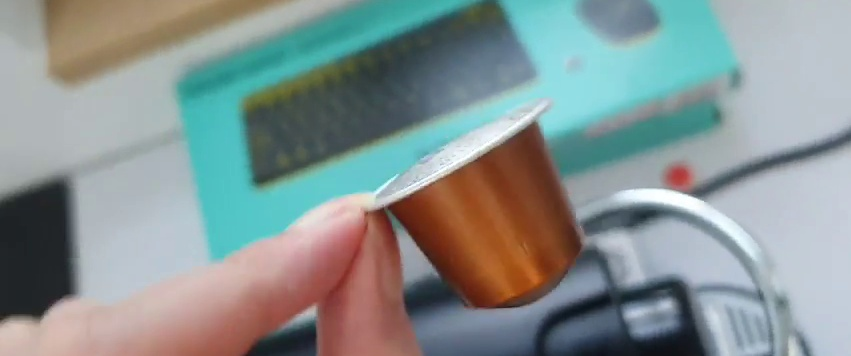capsule_3: (362, 92, 586, 309)
